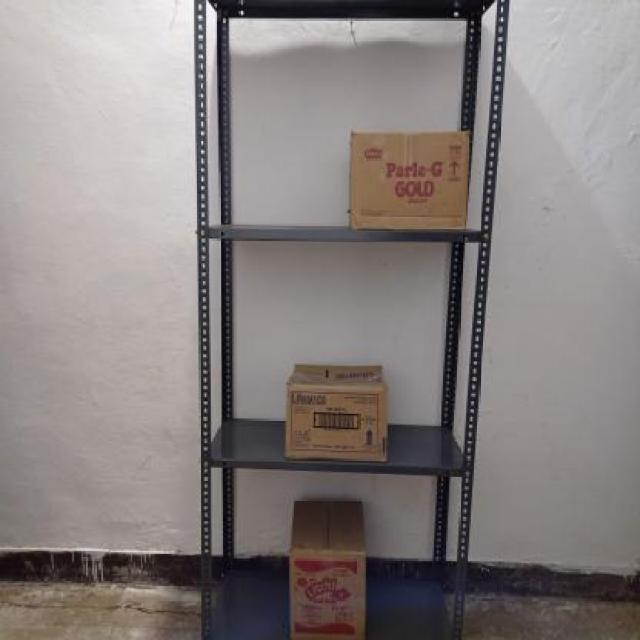box: (350, 132, 468, 230), (286, 384, 388, 466), (290, 552, 366, 640)
